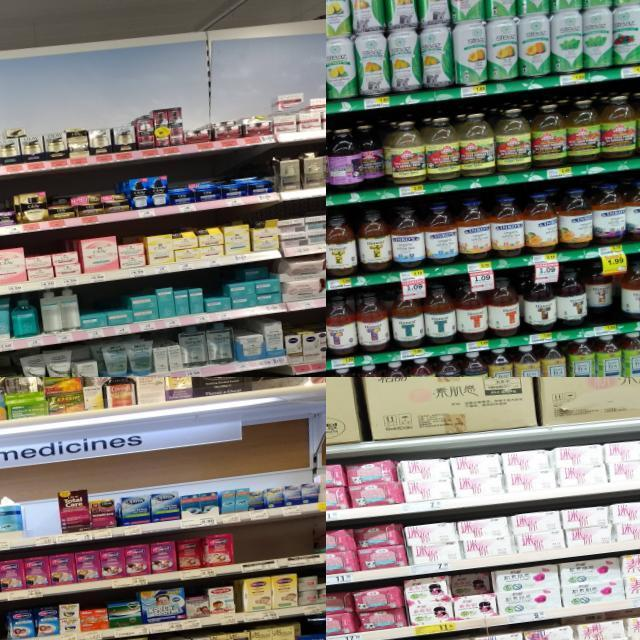empty: (232, 522, 284, 572), (280, 516, 322, 566), (23, 498, 61, 547), (0, 602, 7, 640)
